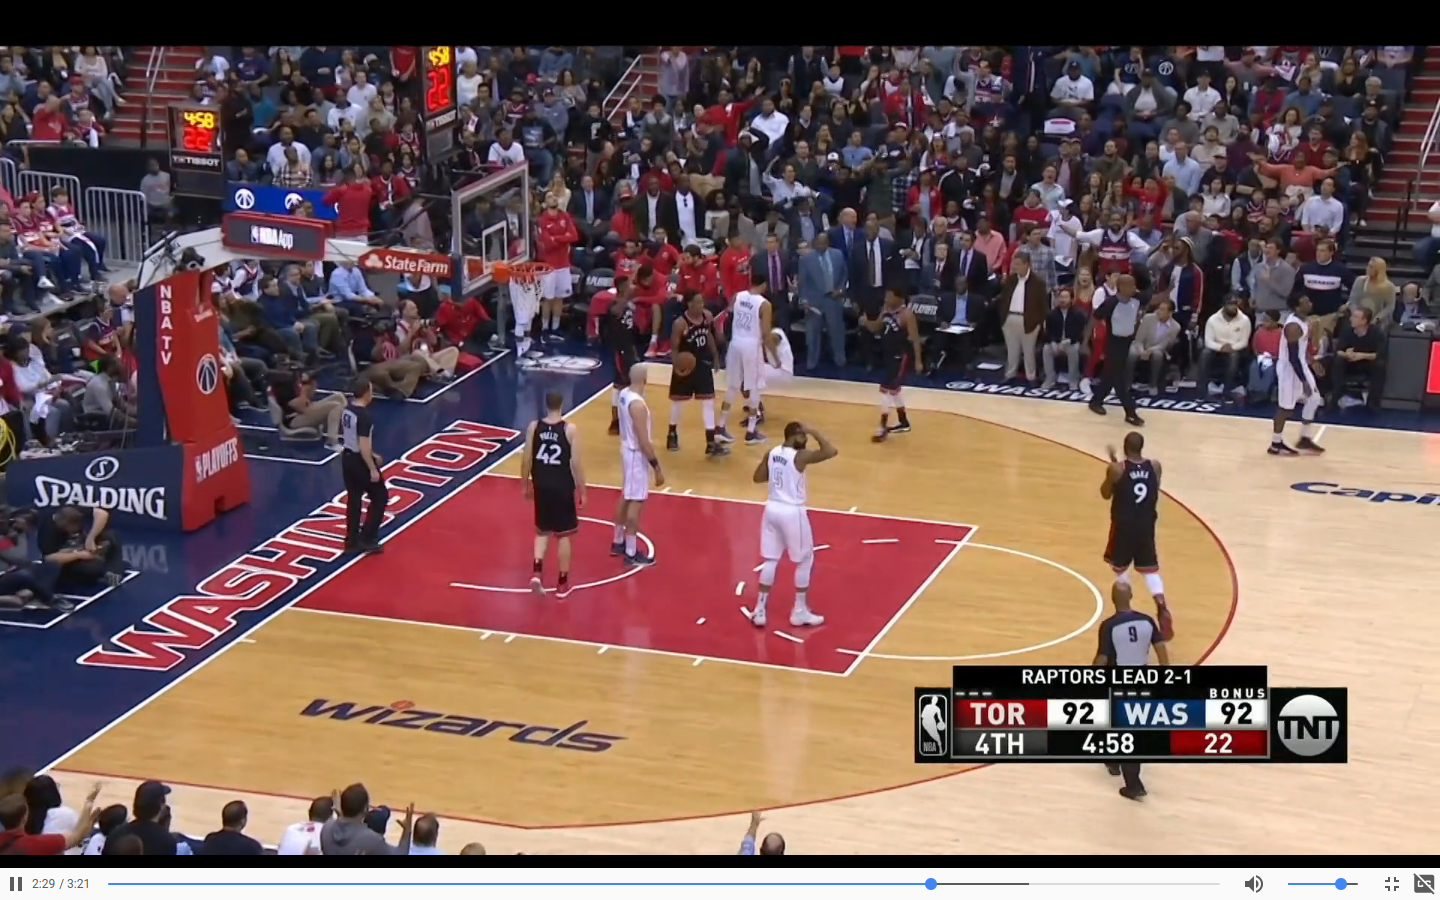basketball: (670, 349, 701, 380)
basketball player: (748, 422, 830, 637), (516, 383, 587, 614), (1261, 282, 1333, 466), (1092, 428, 1172, 585), (659, 285, 728, 466), (856, 288, 928, 449), (719, 274, 787, 434), (610, 362, 661, 568), (608, 271, 645, 443)
referee: (1078, 574, 1172, 809), (1081, 265, 1161, 432), (333, 376, 396, 559)
